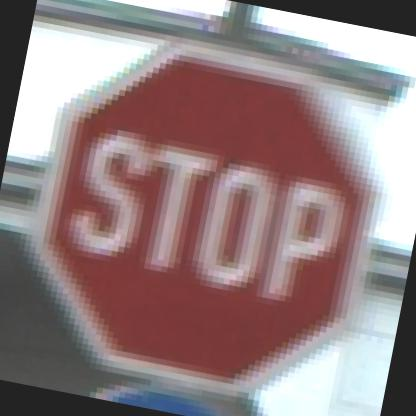stop: (0, 21, 415, 415)
